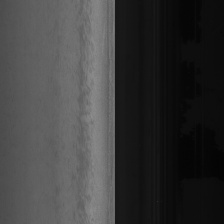silk_spot: (73, 79, 95, 137)
